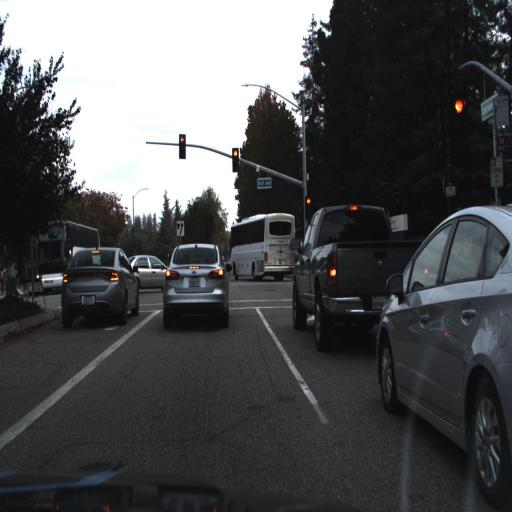car: (377, 204, 511, 473), (290, 202, 426, 351), (289, 203, 386, 352), (60, 245, 138, 323), (164, 242, 229, 328), (128, 254, 166, 294), (132, 252, 167, 288)
trafficLight-Red: (450, 91, 466, 153), (451, 94, 466, 148), (232, 146, 240, 171), (232, 146, 239, 170), (304, 195, 312, 215), (305, 194, 311, 218)
trafficLight-RedLeft: (178, 134, 186, 160)
truck: (34, 221, 101, 288), (35, 220, 99, 289), (229, 215, 295, 280)
